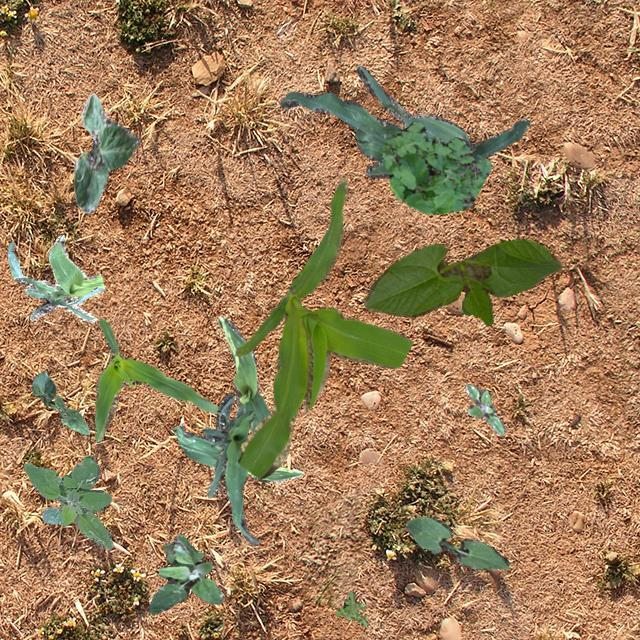crop: (234, 177, 412, 478), (280, 64, 528, 178), (362, 238, 562, 324), (94, 318, 218, 440), (172, 392, 302, 482), (198, 314, 270, 442), (5, 234, 104, 322), (73, 92, 138, 212), (200, 410, 258, 544), (404, 516, 508, 568), (32, 371, 88, 434)
weed: (380, 120, 490, 214), (22, 454, 112, 548), (148, 532, 222, 614), (464, 382, 504, 433), (334, 590, 366, 626)
